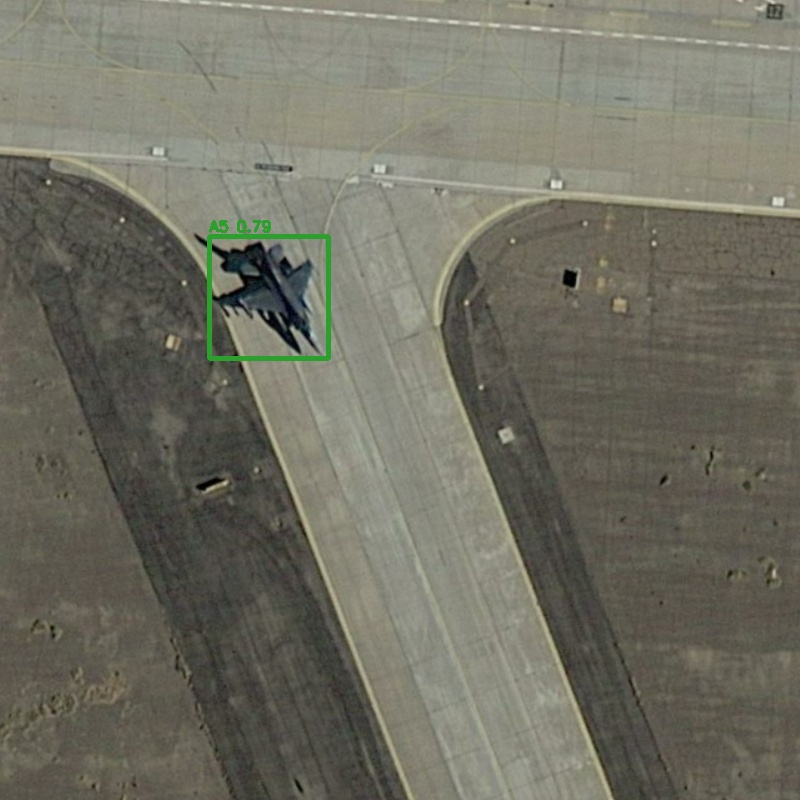A5: (209, 236, 328, 358)
